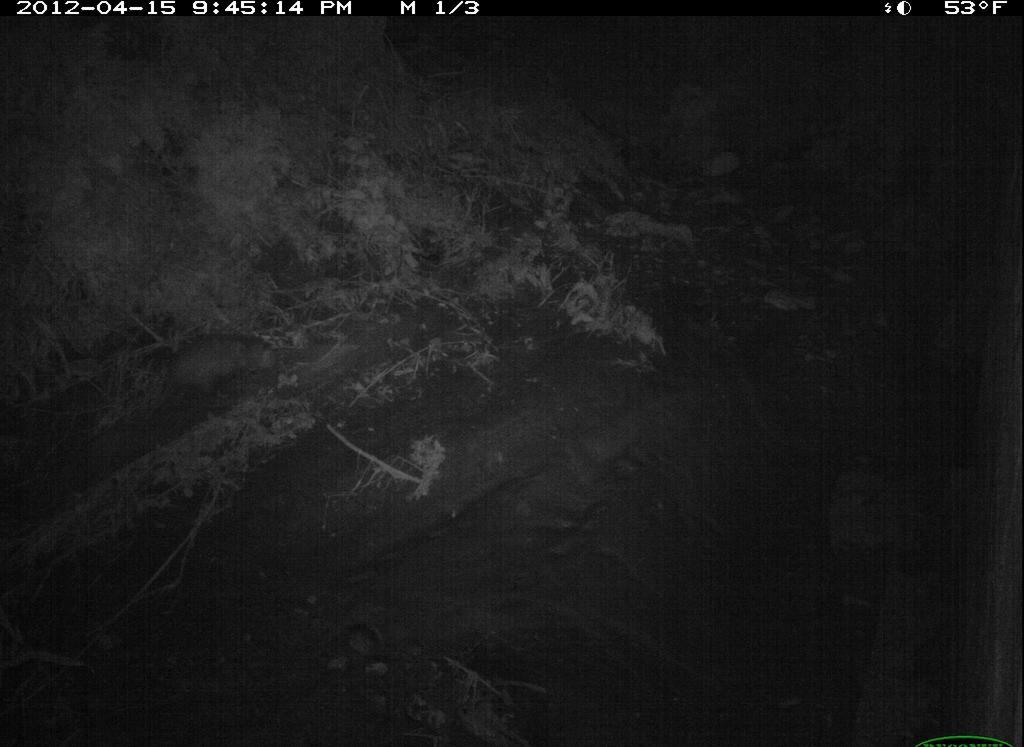opossum: (143, 322, 297, 425)
